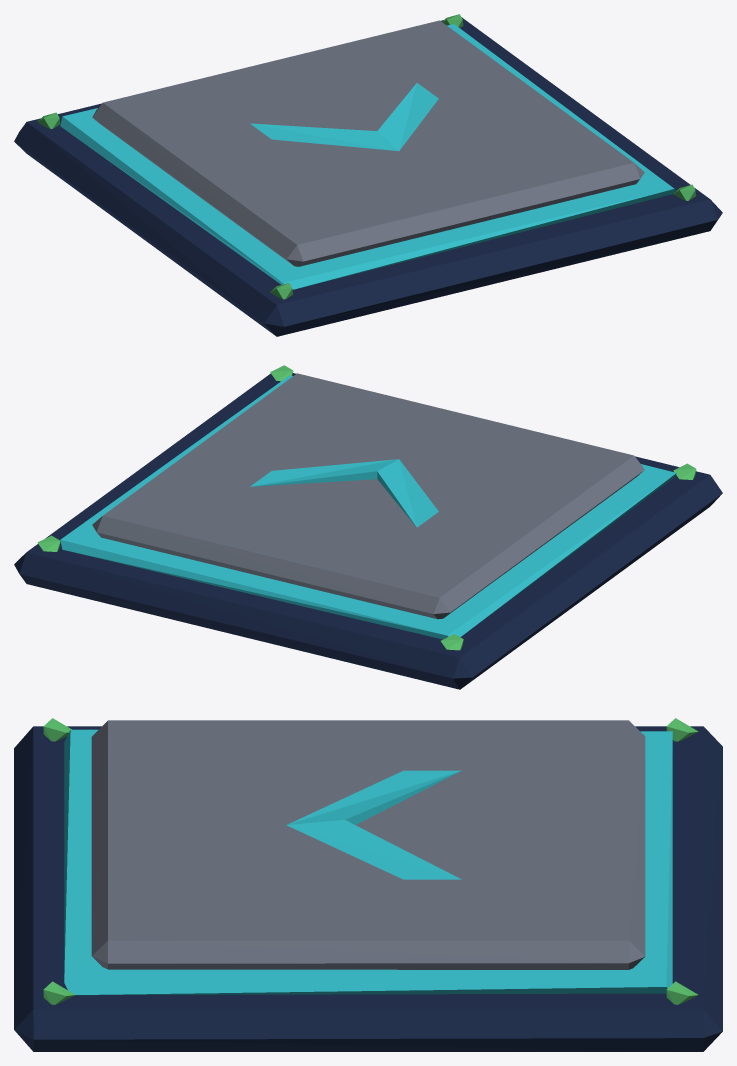
The model's file is pressure_plate_lod1.obj.
3 renders of one model, top to bottom at view 1: azimuth 30°, elevation 25°; view 2: azimuth 150°, elevation 25°; view 3: azimuth 270°, elevation 25°, orthographic. The views are drawn at different scales.
Visible parts, largest first — view 1: pressure_plate_lod1; view 2: pressure_plate_lod1; view 3: pressure_plate_lod1.
Boxes of the visible parts, box(x1,y1,x2,y2) form: pressure_plate_lod1: box(14, 14, 722, 336); pressure_plate_lod1: box(14, 365, 722, 689); pressure_plate_lod1: box(14, 718, 722, 1051).
Bounding box in the file's own units: 1.21 × 0.17 × 1.21.
